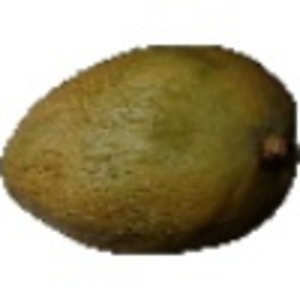mamão: (2, 27, 295, 258)
